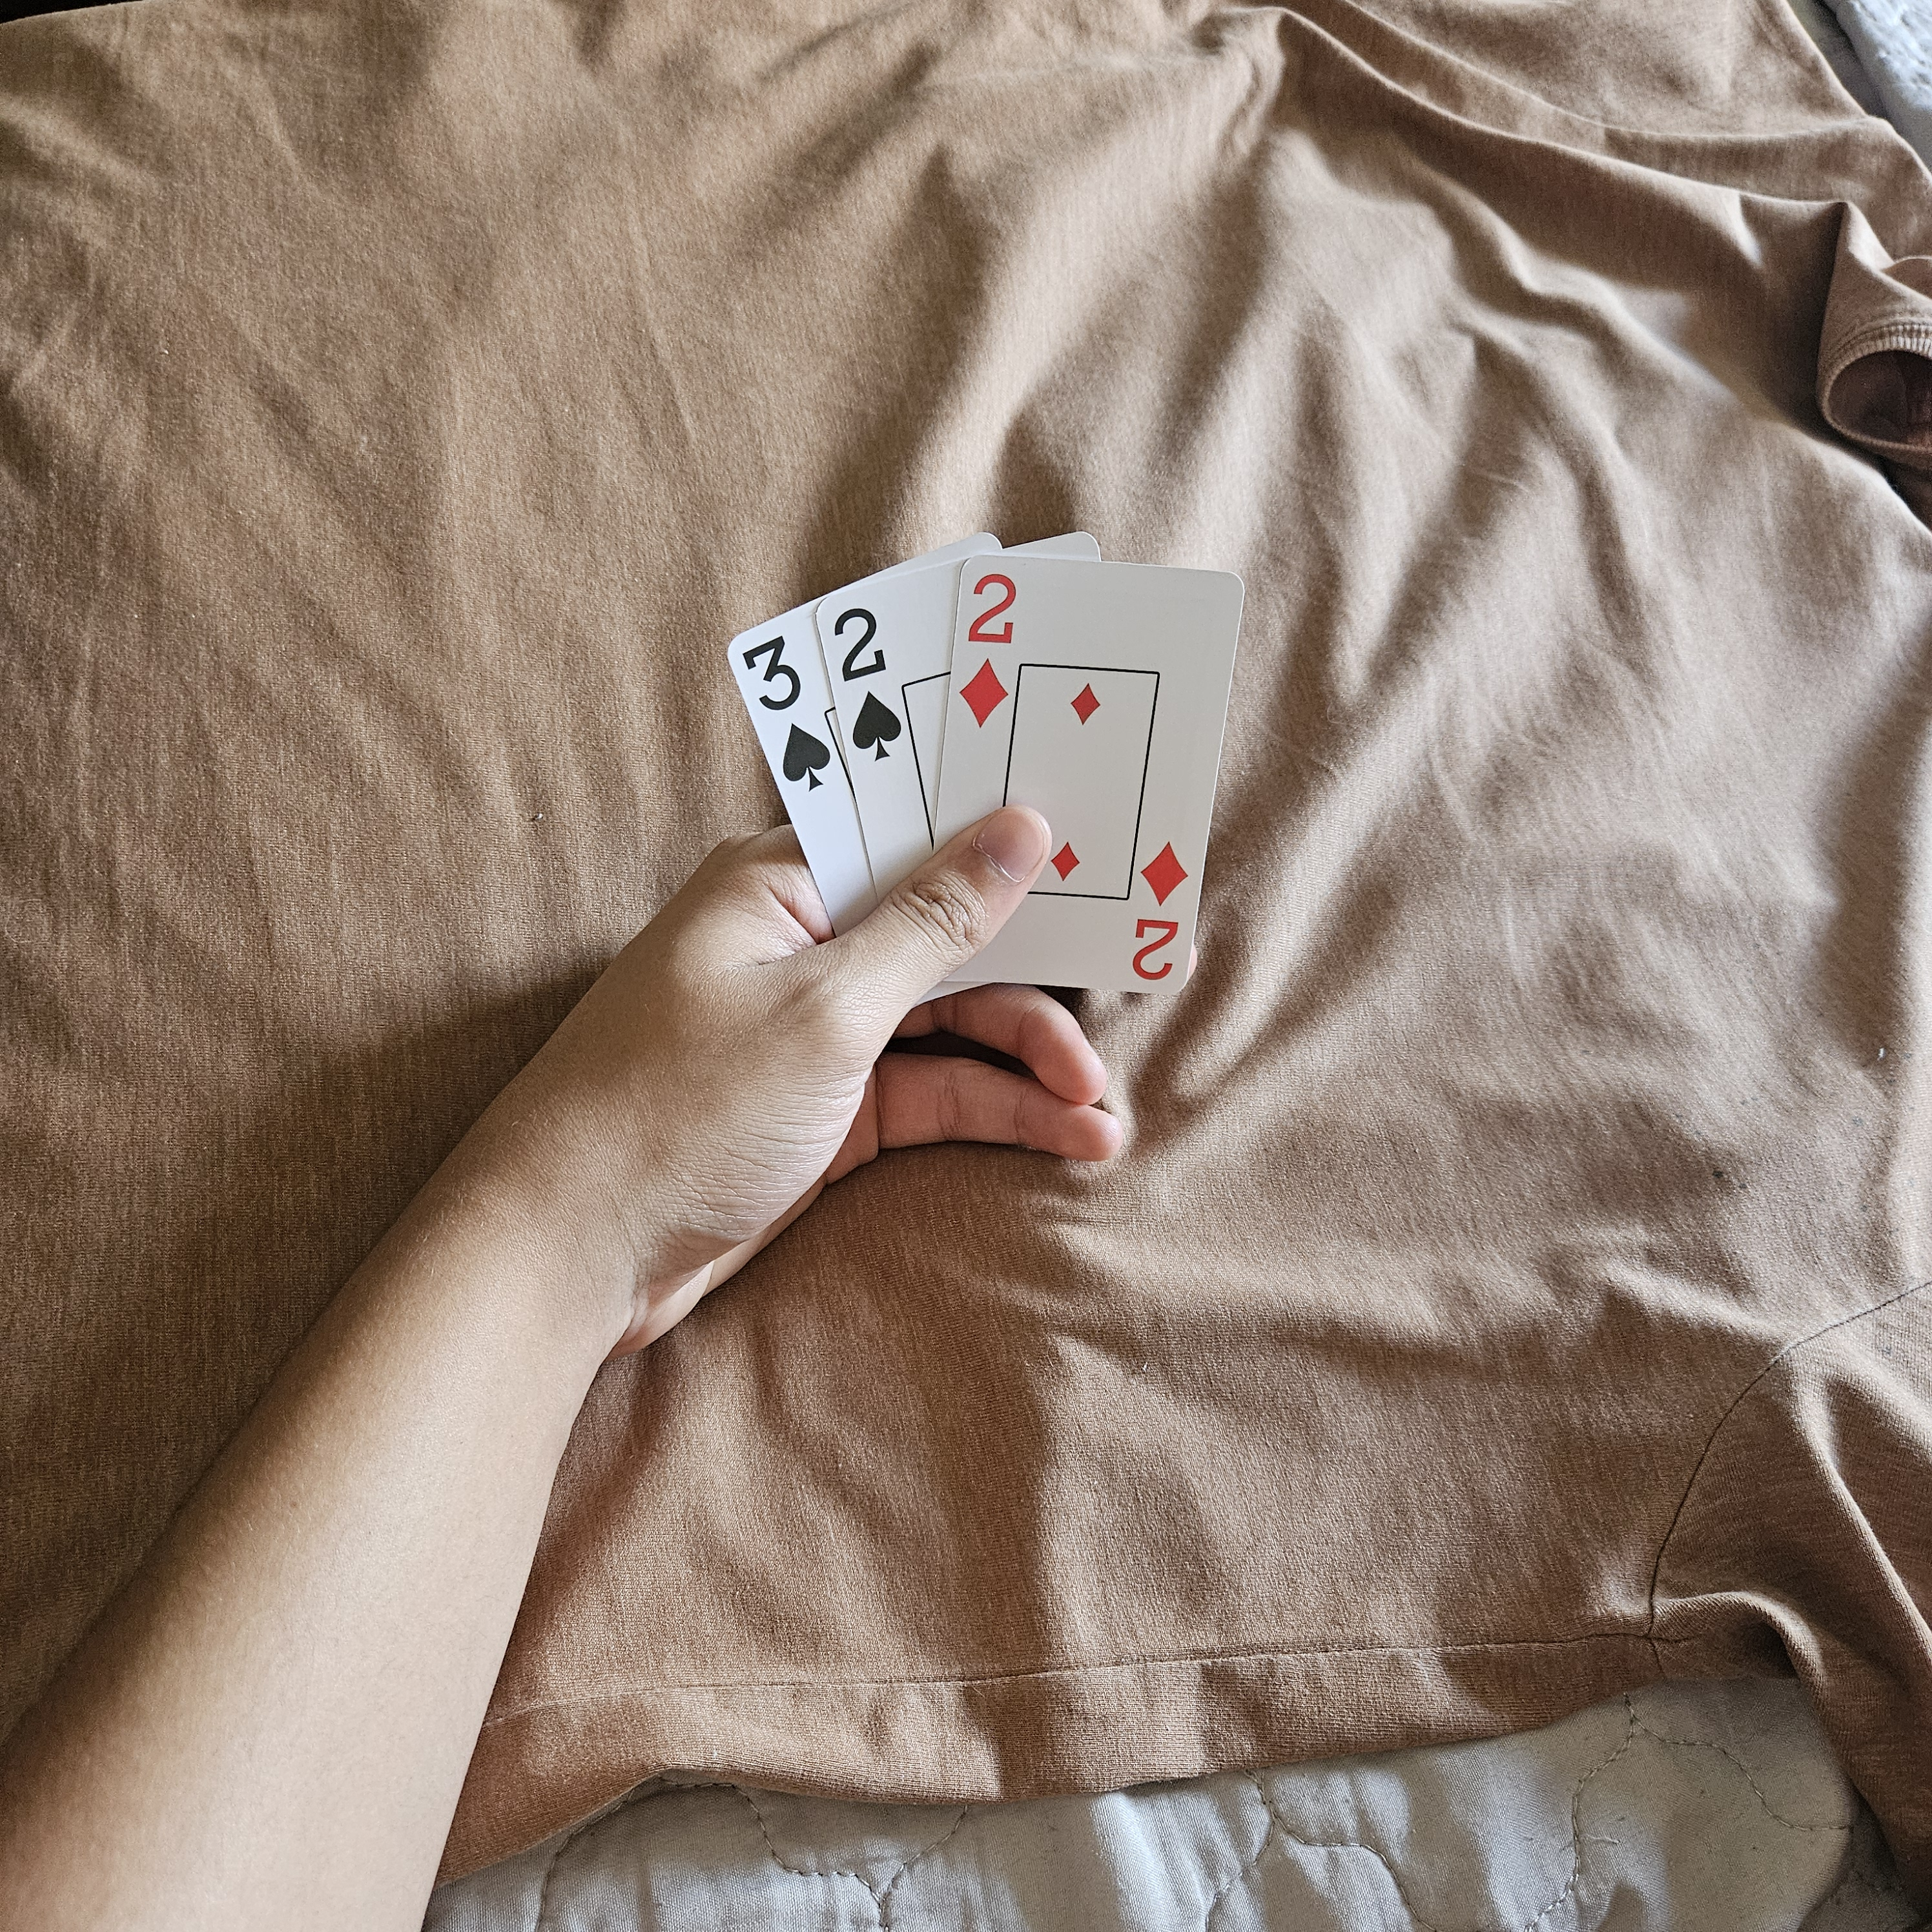2E: (833, 602, 909, 768)
2O: (952, 568, 1024, 732), (1123, 832, 1198, 989)
3E: (736, 632, 833, 798)
